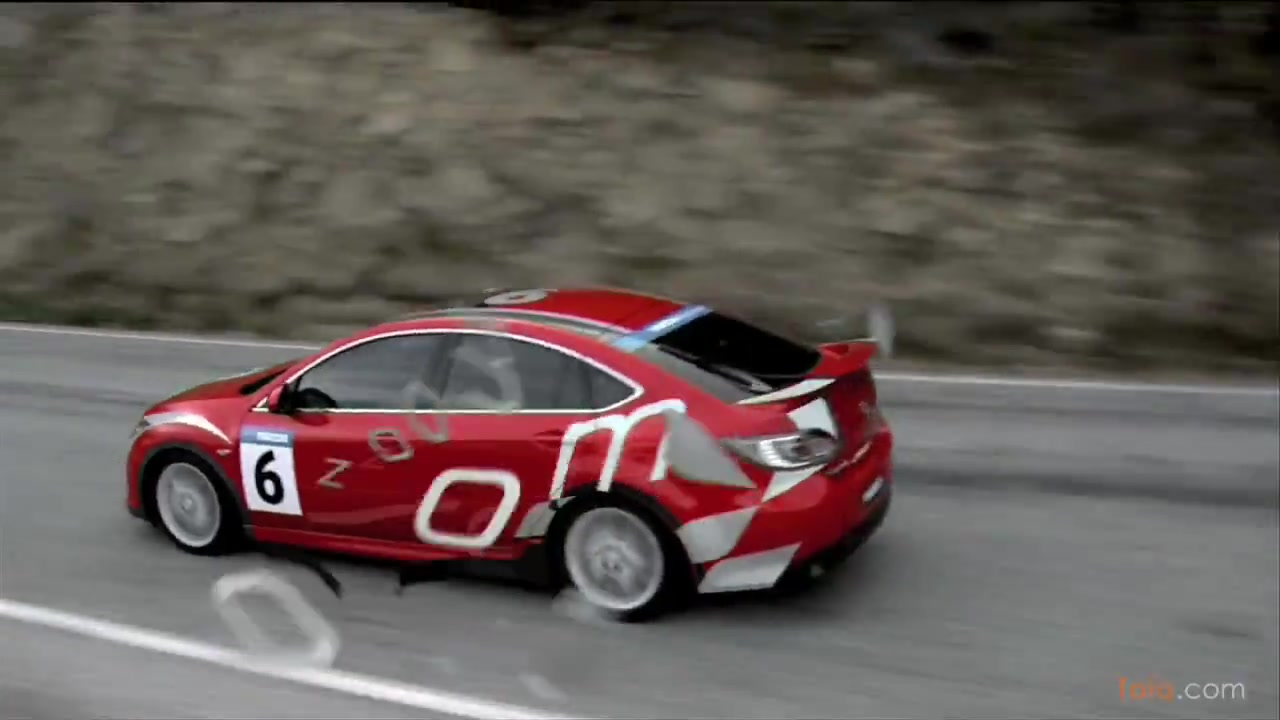car: (121, 280, 899, 627)
